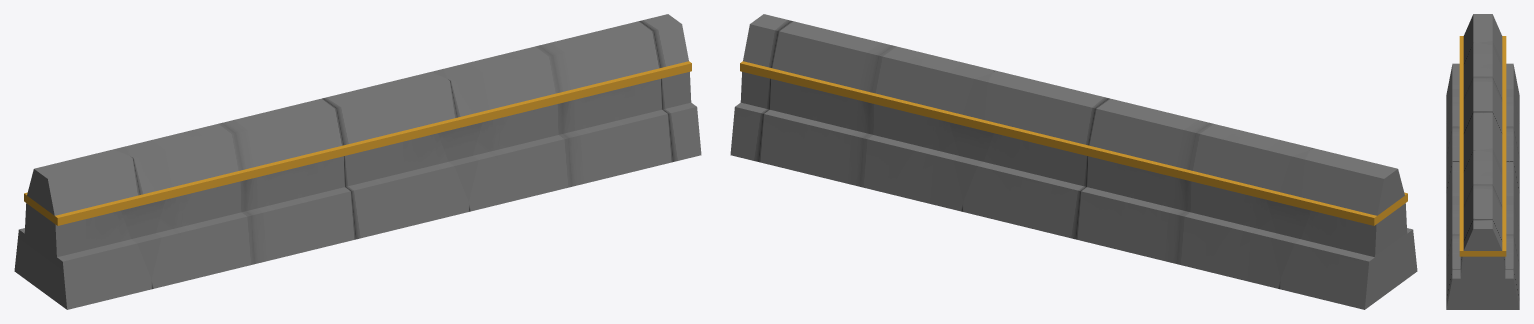
The model's file is SM_Bld_Kawara_Ridge_01.fbx.
The picture shows the model from 3 angles, left to right: view 1: azimuth 30°, elevation 25°; view 2: azimuth 150°, elevation 25°; view 3: azimuth 270°, elevation 25°; orthographic projection. The views are drawn at different scales.
Parts seen in each view (by area): view 1: SM_Bld_Kawara_Ridge_01; view 2: SM_Bld_Kawara_Ridge_01; view 3: SM_Bld_Kawara_Ridge_01.
Part boxes in pixels (x1,y1,x2,y2): SM_Bld_Kawara_Ridge_01: (14,14,701,309); SM_Bld_Kawara_Ridge_01: (730,14,1417,309); SM_Bld_Kawara_Ridge_01: (1446,14,1519,309).
Bounding box in the file's own units: 5 × 0.88 × 0.72.
